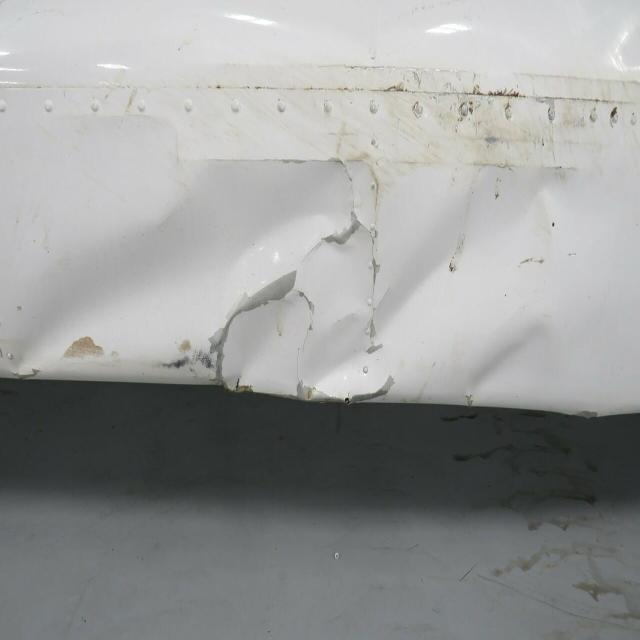Dent: (3, 152, 361, 363), (291, 245, 457, 390), (462, 318, 551, 401), (223, 301, 296, 390)
